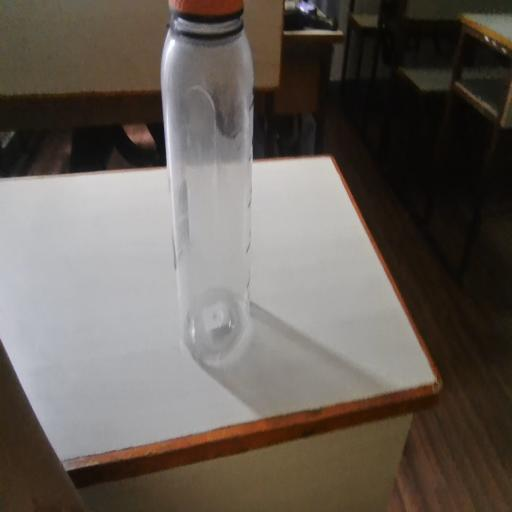Bottle: (144, 0, 291, 399)
